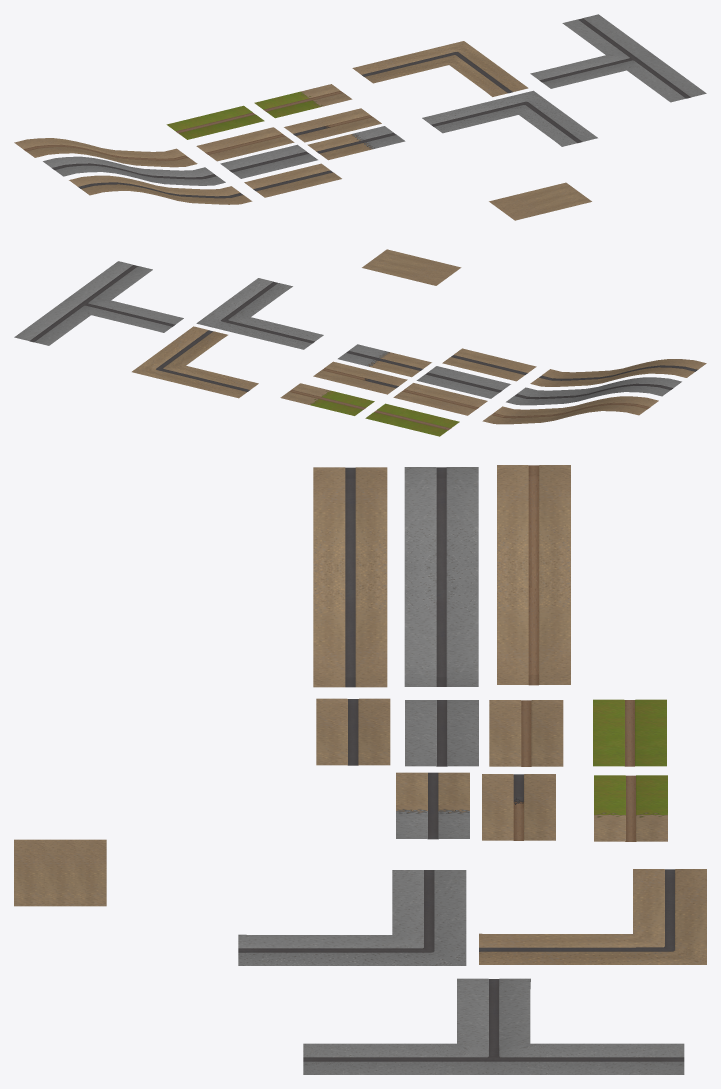
File: street_mod_2.fbx
3 views of the same model, one above another, from view 1: azimuth 30°, elevation 25°; view 2: azimuth 150°, elevation 25°; view 3: azimuth 270°, elevation 25° (orthographic). The views are drawn at different scales.
Visible parts, largest first — view 1: rj_road_cruzada, rj_road_curva_terra, rj_road_curva_cimento, rj_road_terra_subida, rj_road_asfalto_subida, rj_road_alfalto-terra_subida, rj_road_chao, rj_road_cimento_terra_transição, rj_road_grama_transição, rj_road_grama_reta, rj_road_terra_reta, rj_road_asfalto-terra_transição (+2 smaller); view 2: rj_road_cruzada, rj_road_curva_terra, rj_road_curva_cimento, rj_road_terra_subida, rj_road_asfalto_subida, rj_road_alfalto-terra_subida, rj_road_chao, rj_road_grama_reta, rj_road_grama_transição, rj_road_alfalto_reto, rj_road_asfalto-terra_transição, rj_road_cimento_terra_transição (+2 smaller); view 3: rj_road_cruzada, rj_road_alfalto-terra_subida, rj_road_asfalto_subida, rj_road_terra_subida, rj_road_curva_cimento, rj_road_curva_terra, rj_road_chao, rj_road_asfalt-terra_reta, rj_road_terra_reta, rj_road_grama_reta, rj_road_cimento_terra_transição, rj_road_asfalto-terra_transição (+2 smaller).
Boxes of the visible parts, x1=… form: rj_road_cruzada: x1=530, y1=14, x2=706, y2=102; rj_road_curva_terra: x1=352, y1=41, x2=528, y2=96; rj_road_curva_cimento: x1=422, y1=90, x2=597, y2=146; rj_road_terra_subida: x1=14, y1=138, x2=197, y2=167; rj_road_asfalto_subida: x1=43, y1=156, x2=225, y2=185; rj_road_alfalto-terra_subida: x1=69, y1=175, x2=252, y2=204; rj_road_chao: x1=489, y1=182, x2=591, y2=220; rj_road_cimento_terra_transição: x1=307, y1=126, x2=405, y2=160; rj_road_grama_transição: x1=254, y1=84, x2=352, y2=118; rj_road_grama_reta: x1=166, y1=105, x2=264, y2=139; rj_road_terra_reta: x1=196, y1=127, x2=294, y2=161; rj_road_asfalto-terra_transição: x1=284, y1=108, x2=381, y2=142; rj_road_cruzada: x1=14, y1=261, x2=183, y2=345; rj_road_curva_terra: x1=132, y1=326, x2=258, y2=398; rj_road_curva_cimento: x1=196, y1=278, x2=323, y2=349; rj_road_terra_subida: x1=482, y1=396, x2=658, y2=424; rj_road_asfalto_subida: x1=506, y1=377, x2=681, y2=405; rj_road_alfalto-terra_subida: x1=530, y1=359, x2=706, y2=386; rj_road_chao: x1=362, y1=249, x2=461, y2=285; rj_road_grama_reta: x1=365, y1=403, x2=459, y2=436; rj_road_grama_transição: x1=280, y1=383, x2=374, y2=415; rj_road_alfalto_reto: x1=416, y1=366, x2=510, y2=398; rj_road_asfalto-terra_transição: x1=313, y1=361, x2=407, y2=394; rj_road_cimento_terra_transição: x1=338, y1=344, x2=431, y2=377; rj_road_cruzada: x1=303, y1=978, x2=684, y2=1074; rj_road_alfalto-terra_subida: x1=313, y1=467, x2=387, y2=687; rj_road_asfalto_subida: x1=404, y1=467, x2=478, y2=686; rj_road_terra_subida: x1=497, y1=465, x2=570, y2=685; rj_road_curva_cimento: x1=238, y1=870, x2=466, y2=965; rj_road_curva_terra: x1=479, y1=869, x2=706, y2=964; rj_road_chao: x1=14, y1=839, x2=106, y2=906; rj_road_asfalt-terra_reta: x1=316, y1=698, x2=390, y2=765; rj_road_terra_reta: x1=489, y1=700, x2=563, y2=766; rj_road_grama_reta: x1=593, y1=699, x2=666, y2=766; rj_road_cimento_terra_transição: x1=396, y1=772, x2=469, y2=839; rj_road_asfalto-terra_transição: x1=482, y1=774, x2=555, y2=840.
Bounding box in the file's own units: 63848 × 4584 × 35321.
